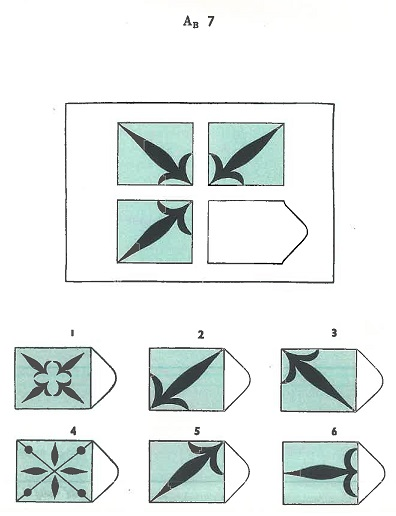Array 1: (10, 325, 119, 414)
Array 2: (143, 325, 254, 416)
Array 3: (275, 325, 386, 416)
Array 4: (12, 421, 122, 506)
Array 5: (145, 421, 256, 506)
Array 6: (278, 422, 388, 508)
Matrix 1: (112, 116, 197, 189)
Matrix 2: (203, 117, 288, 190)
Matrix 3: (113, 194, 197, 269)
Matrix Unknown: (203, 195, 312, 268)
